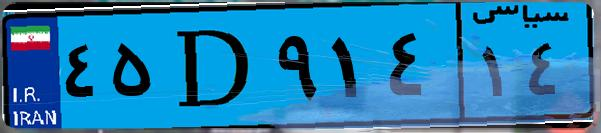1: (330, 28, 385, 110), (475, 38, 525, 113)
4: (385, 28, 445, 110), (57, 26, 110, 100), (525, 38, 570, 115)
5: (110, 28, 158, 98)
9: (270, 28, 330, 110)
D: (158, 12, 270, 120)
